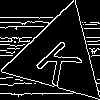K: (33, 32, 91, 88)
